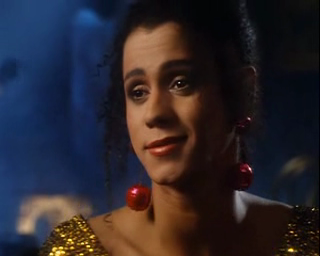cu: (1, 1, 320, 256)
face: (122, 37, 219, 184)
person: (37, 1, 320, 255)
